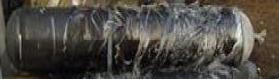cylinder: (1, 0, 279, 79)
